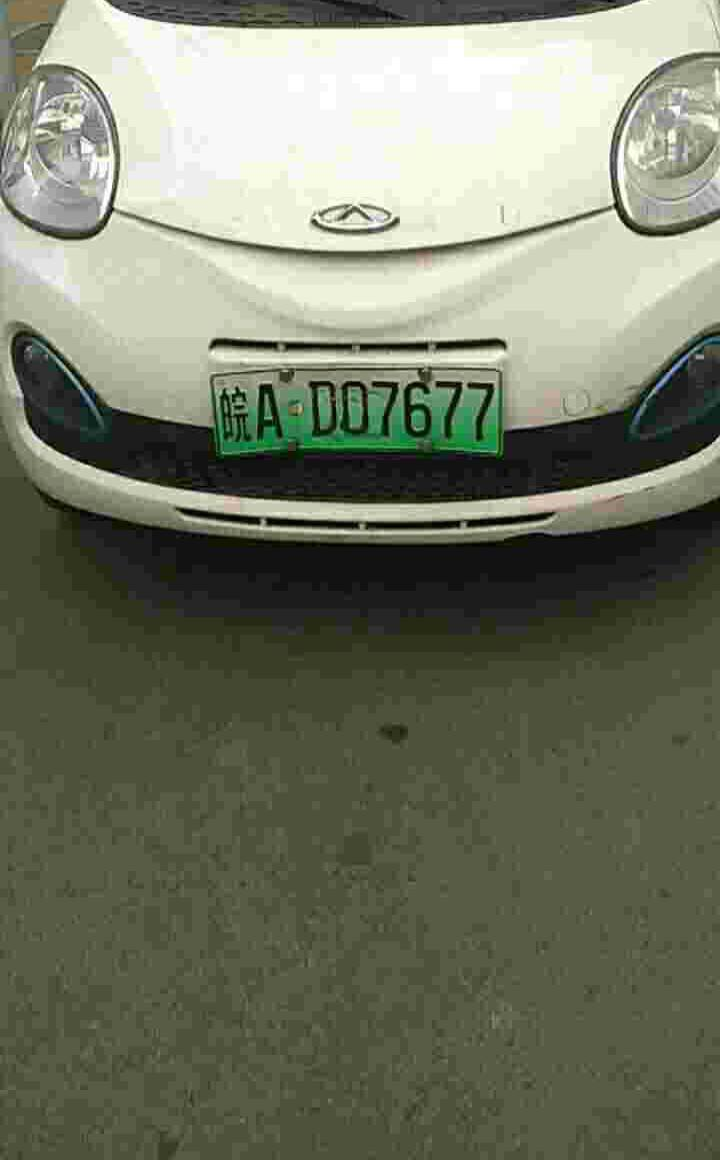car_id: (209, 367, 503, 456)
